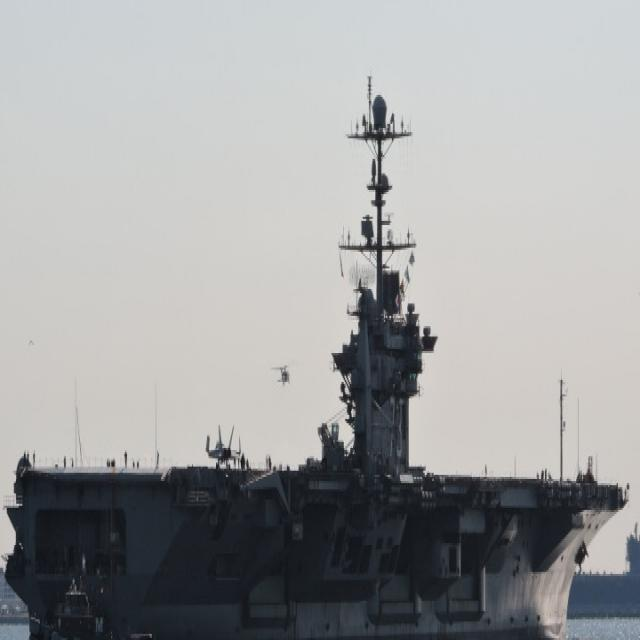Portanaves: (1, 59, 636, 640)
